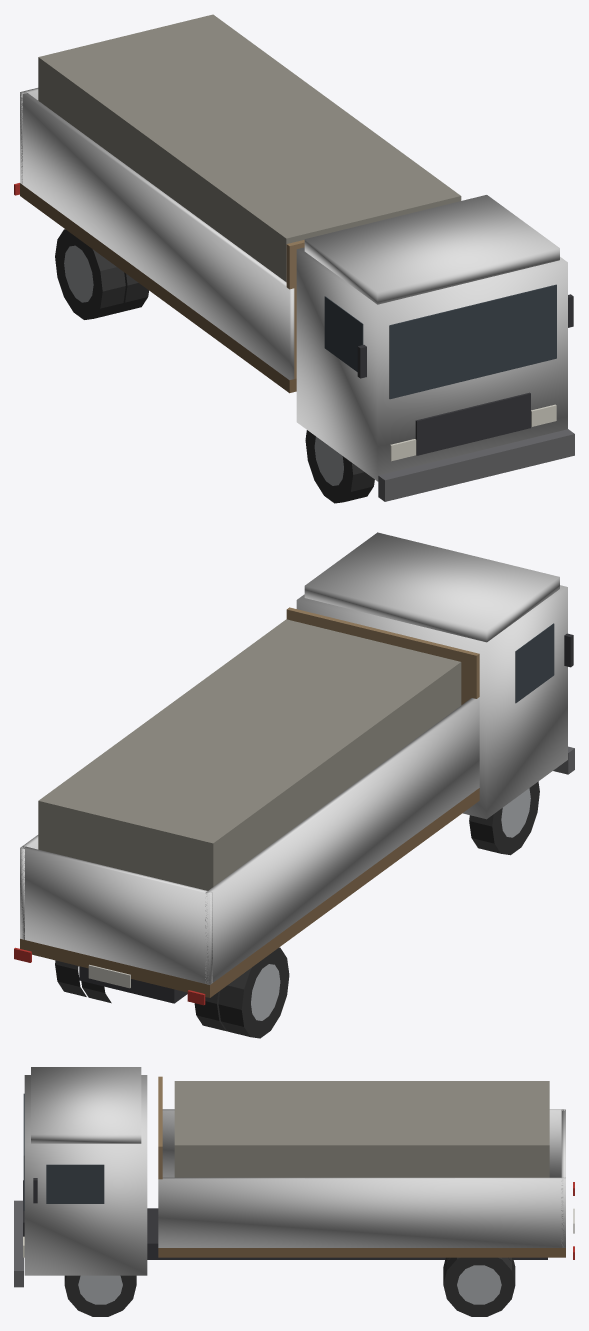
Rendered from cargotruck.glb.
The picture shows the model from 3 angles, top to bottom: view 1: azimuth 30°, elevation 25°; view 2: azimuth 150°, elevation 25°; view 3: azimuth 270°, elevation 25°; orthographic projection. The views are drawn at different scales.
Visible parts, largest first — view 1: fixed, paint; view 2: fixed, paint; view 3: paint, fixed.
Boxes of the visible parts, x1,y1,x2,y2 form: fixed: [14, 14, 574, 503]; paint: [20, 88, 567, 481]; fixed: [14, 607, 574, 1038]; paint: [20, 532, 567, 984]; paint: [24, 1067, 565, 1275]; fixed: [14, 1076, 574, 1316].
Size of the model in its own units: 2.58 by 2.78 by 7.78.
